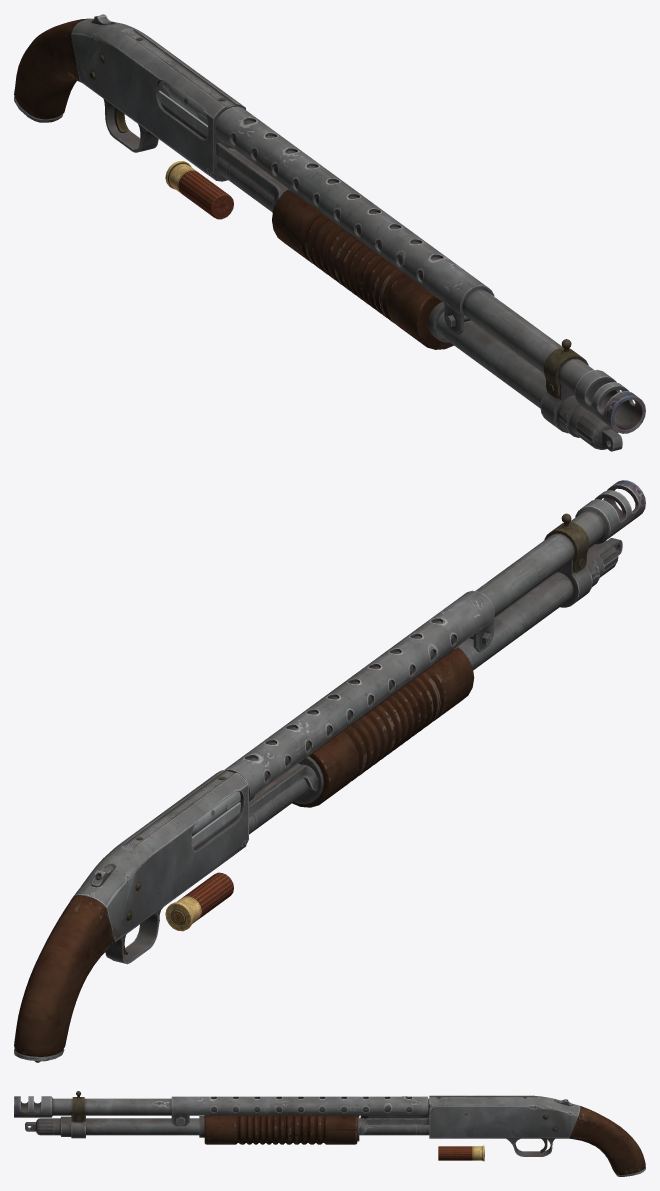
File: shotgun.glb
3 views of the same model, one above another, from view 1: azimuth 30°, elevation 25°; view 2: azimuth 150°, elevation 25°; view 3: azimuth 270°, elevation 25° (orthographic). The views are drawn at different scales.
Parts seen in each view (by area): view 1: base, pump, slug; view 2: base, pump, slug; view 3: base, pump, slug.
Part boxes in pixels (x1,y1,x2,y2): base: (14,14,645,451); pump: (159,80,453,349); slug: (165,161,233,219); base: (14,480,645,1062); pump: (192,647,474,849); slug: (165,872,233,931); base: (14,1091,645,1176); pump: (199,1115,429,1144); slug: (438,1145,484,1161).
Size of the model in its own units: 0.0324 by 0.0846 by 0.574.
1 material, 1 textured.
